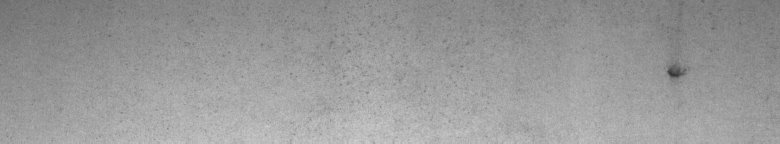fi: (660, 56, 690, 88)
